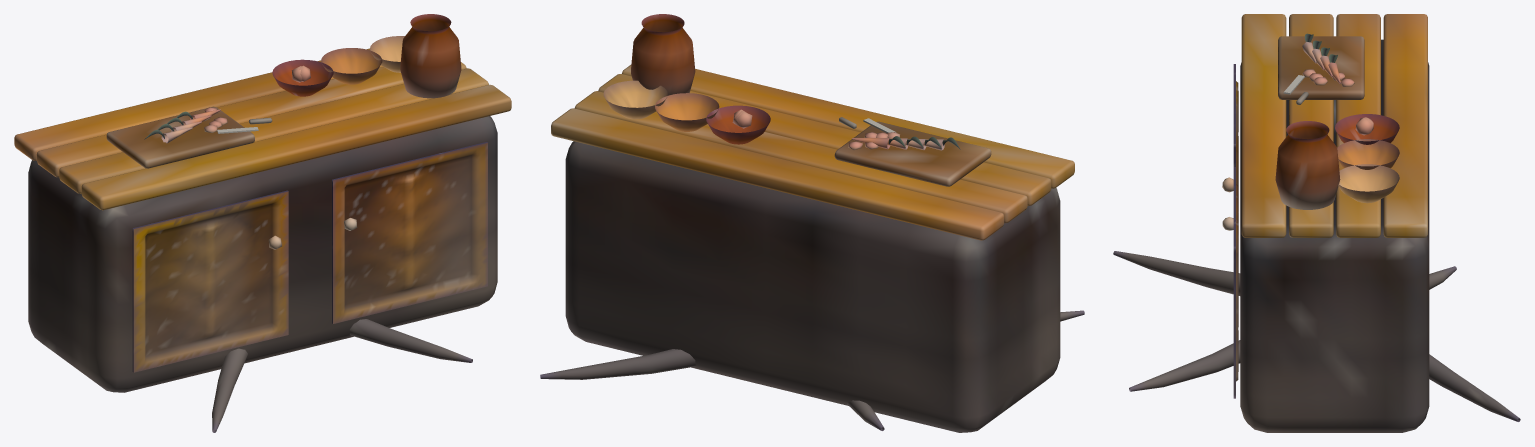
File: kutuk_tezgah.glb
3 views of the same model, side by side, from view 1: azimuth 30°, elevation 25°; view 2: azimuth 150°, elevation 25°; view 3: azimuth 270°, elevation 25° (orthographic). The views are drawn at different scales.
Visible parts, largest first — view 1: kutuk_tezgah_LOD0; view 2: kutuk_tezgah_LOD0; view 3: kutuk_tezgah_LOD0.
Boxes of the visible parts, x1,y1,x2,y2 form: kutuk_tezgah_LOD0: [14, 14, 511, 432]; kutuk_tezgah_LOD0: [540, 14, 1084, 432]; kutuk_tezgah_LOD0: [1113, 14, 1520, 432].
Size of what is drawn, in the model's own units: 1.86 by 1.18 by 1.51.
